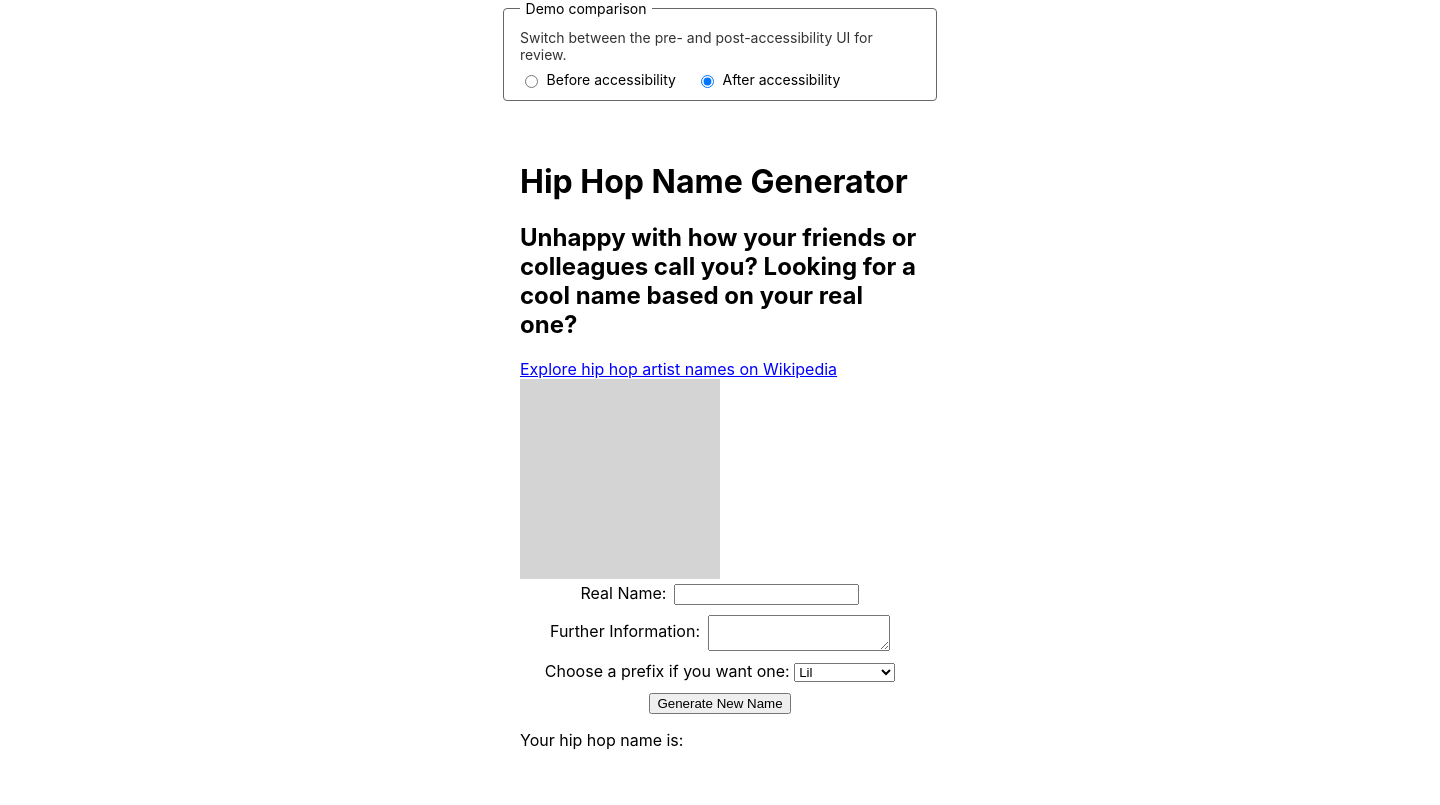
it: accessibility comparison mode › selecting before renders the reconstructed pre-accessibility variant
The width and height of the screenshot is (1440, 805).
Click the radio button labelled "Before accessibility" at (532, 81), box [525, 74, 538, 88]
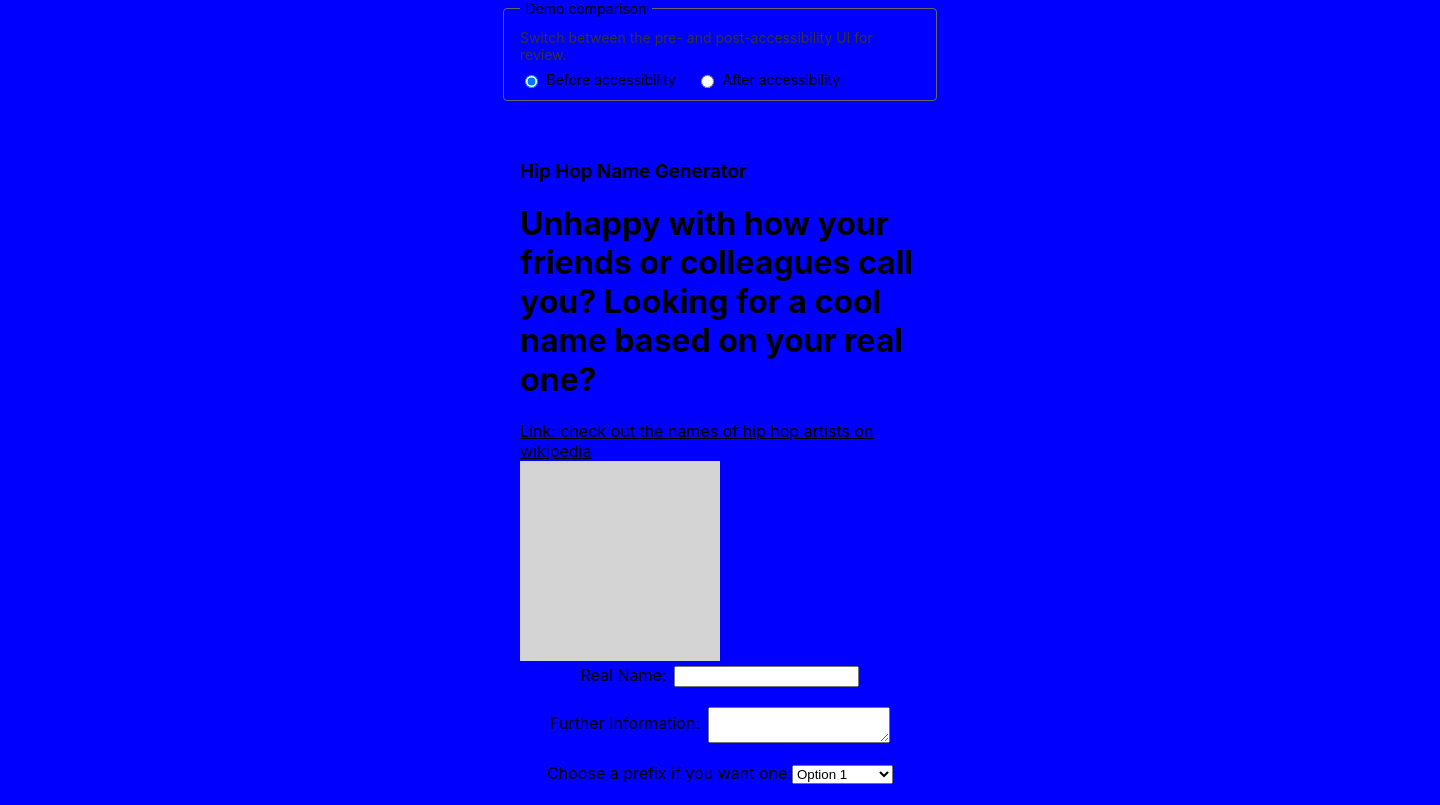
Now the 2nd heading shows "Unhappy with how your friends", box [520, 204, 913, 399]
Now the link "Explore hip hop artist names" is gone
Now the text "Link: check out the names of hip hop artists on wikipedia" is shown, box [520, 421, 874, 461]
